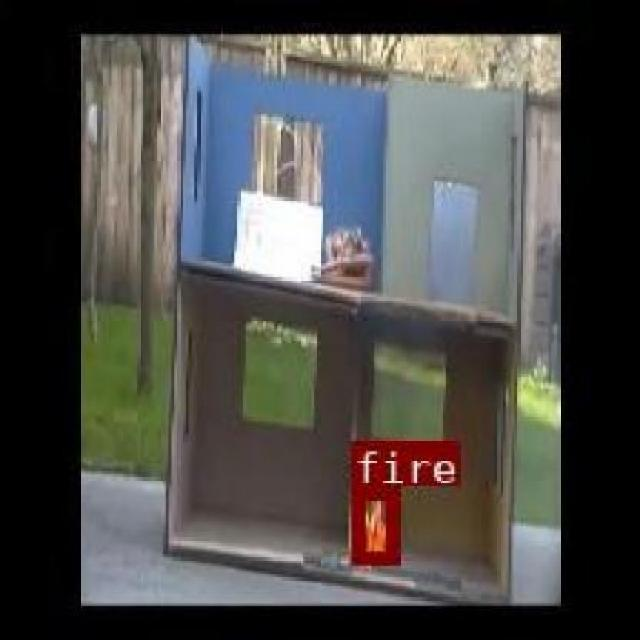Fire: (350, 483, 396, 563)
